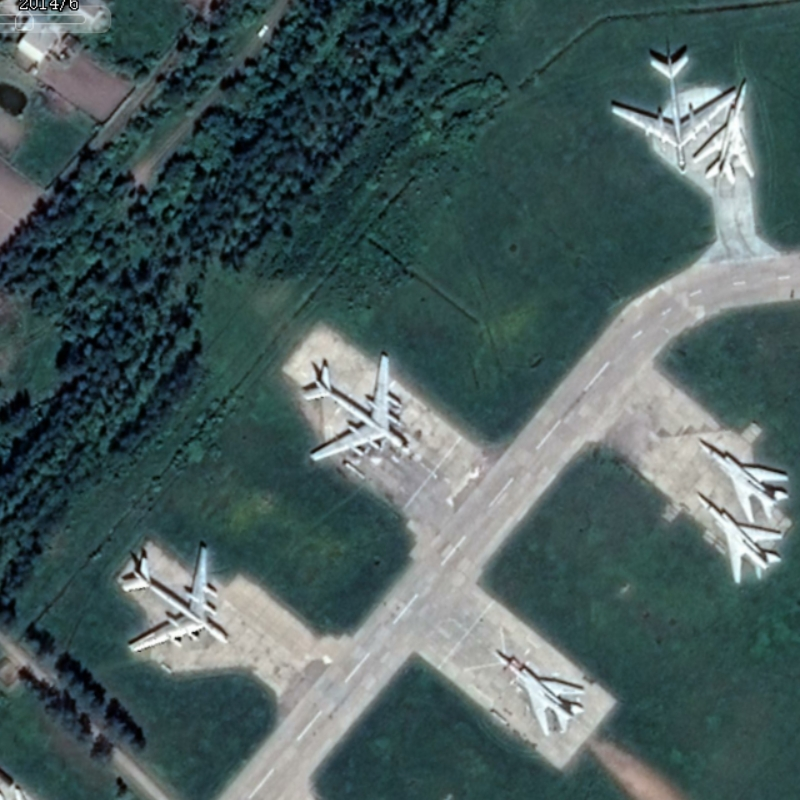A12: (694, 490, 785, 586), (492, 648, 587, 739), (698, 441, 792, 526), (690, 80, 757, 185)
A17: (609, 54, 739, 174), (300, 352, 413, 464), (119, 544, 231, 656)
